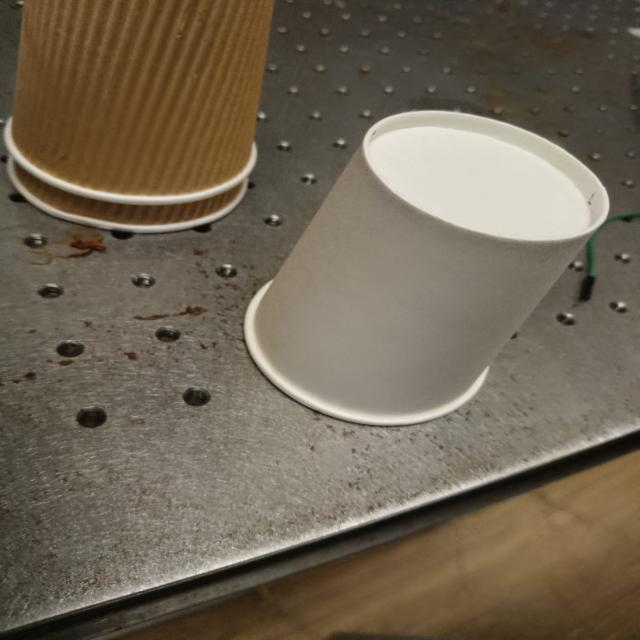Browncup: (8, 0, 277, 205), (4, 157, 250, 235)
Whitecup: (245, 110, 609, 425)
